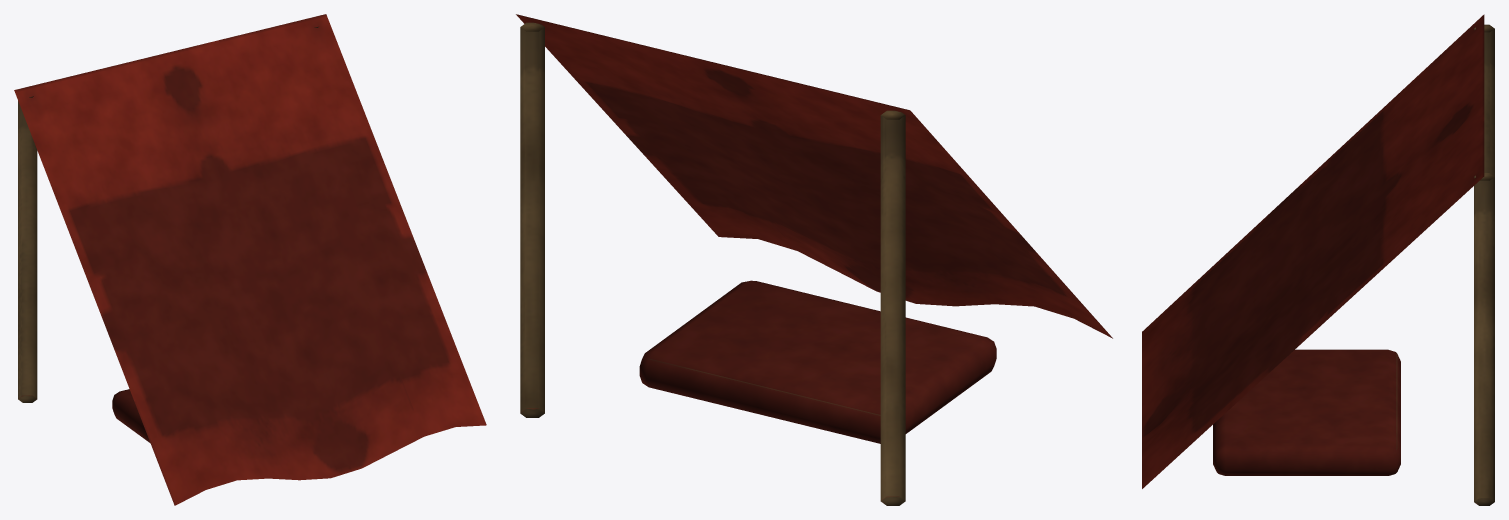
The model's file is bandit_tent.obj.
The picture shows the model from 3 angles, left to right: view 1: azimuth 30°, elevation 25°; view 2: azimuth 150°, elevation 25°; view 3: azimuth 270°, elevation 25°; orthographic projection. The views are drawn at different scales.
Parts seen in each view (by area): view 1: part1, part0, part2; view 2: part1, part2, part0; view 3: part1, part2, part0.
Part boxes in pixels (x1=…): part1: x1=14, y1=14, x2=486, y2=505; part0: x1=18, y1=26, x2=318, y2=402; part2: x1=112, y1=389, x2=150, y2=442; part1: x1=516, y1=14, x2=1112, y2=338; part2: x1=639, y1=280, x2=996, y2=443; part0: x1=520, y1=22, x2=905, y2=505; part1: x1=1142, y1=14, x2=1484, y2=488; part2: x1=1213, y1=349, x2=1400, y2=475; part0: x1=1474, y1=24, x2=1494, y2=505.
Bounding box in the file's own units: 0.92 × 0.88 × 0.845.
